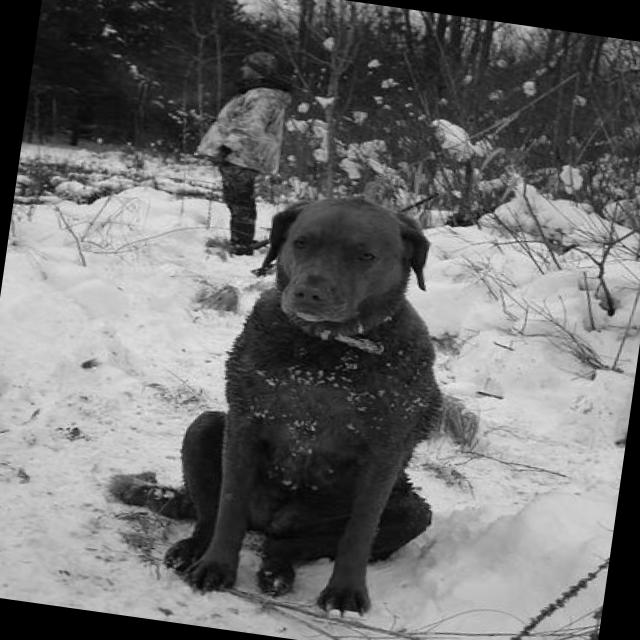sitting: (105, 165, 478, 625)
